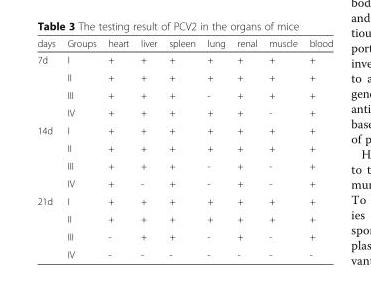table: (36, 37, 332, 259)
table column: (60, 37, 101, 259), (262, 37, 302, 259), (162, 37, 200, 259), (101, 37, 134, 259), (230, 37, 262, 259), (200, 37, 230, 259), (302, 37, 332, 259), (134, 37, 162, 259), (36, 37, 60, 259)
table column header: (36, 37, 332, 51)
table row: (36, 85, 332, 103), (36, 103, 332, 121), (36, 138, 332, 156), (36, 156, 332, 174), (36, 174, 332, 192), (36, 209, 332, 227), (36, 227, 332, 245), (36, 51, 332, 68), (36, 68, 332, 85), (36, 121, 332, 138), (36, 192, 332, 209), (36, 37, 332, 51), (36, 245, 332, 259)
table spanning cell: (36, 121, 60, 192), (36, 51, 60, 121), (36, 192, 60, 259)
